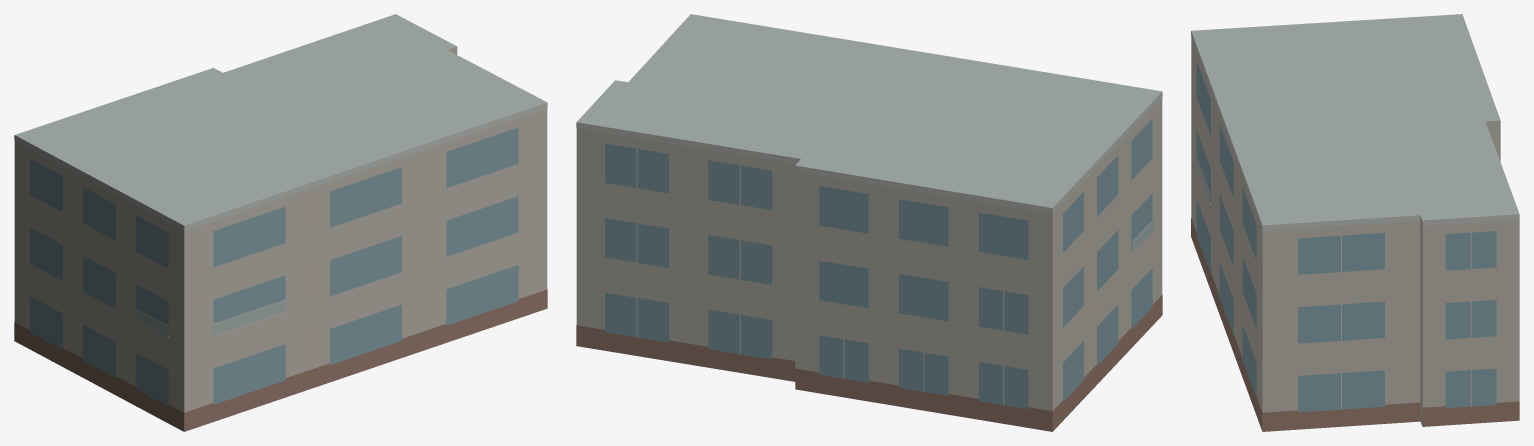
File: survey-upis-32480517.glb
3 views of the same model, side by side, from view 1: azimuth 30°, elevation 25°; view 2: azimuth 150°, elevation 25°; view 3: azimuth 270°, elevation 25° (orthographic). The views are drawn at different scales.
Visible parts, largest first — view 1: survey-upis-32480517.tmp; view 2: survey-upis-32480517.tmp; view 3: survey-upis-32480517.tmp.
Boxes of the visible parts, x1,y1,x2,y2 form: survey-upis-32480517.tmp: (14,14,547,431); survey-upis-32480517.tmp: (576,14,1162,431); survey-upis-32480517.tmp: (1191,14,1519,431).
Size of the model in its own units: 19.8 by 9 by 13.
